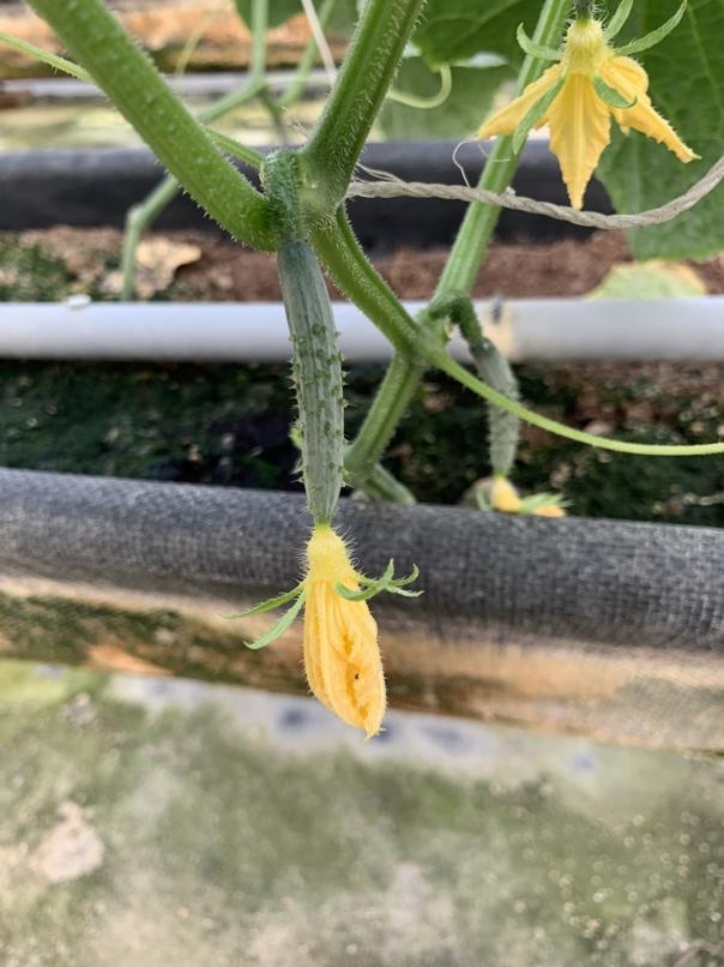bear: (257, 236, 400, 727), (468, 333, 527, 504)
